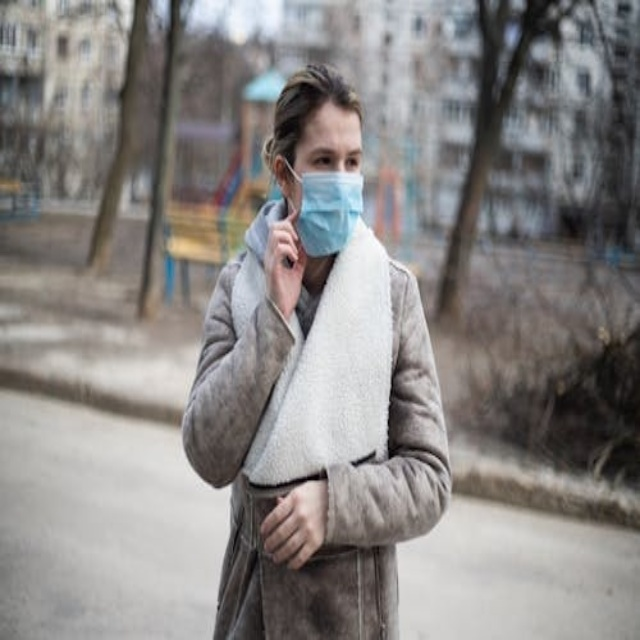Mascara: (282, 164, 364, 256)
Sin_gafas: (301, 138, 365, 167)
Sin_guantes: (255, 473, 330, 575), (262, 204, 306, 309)
